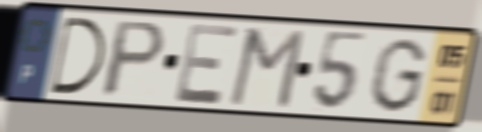5: (310, 28, 373, 115)
D: (48, 14, 109, 97)
E: (172, 20, 242, 108)
G: (365, 35, 430, 116)
M: (225, 25, 308, 112)
P: (97, 18, 170, 101)
